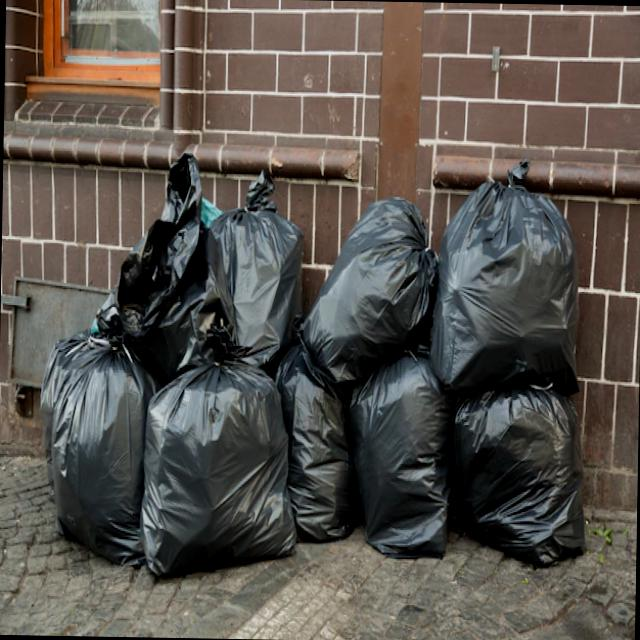garbage: (21, 140, 594, 619)
